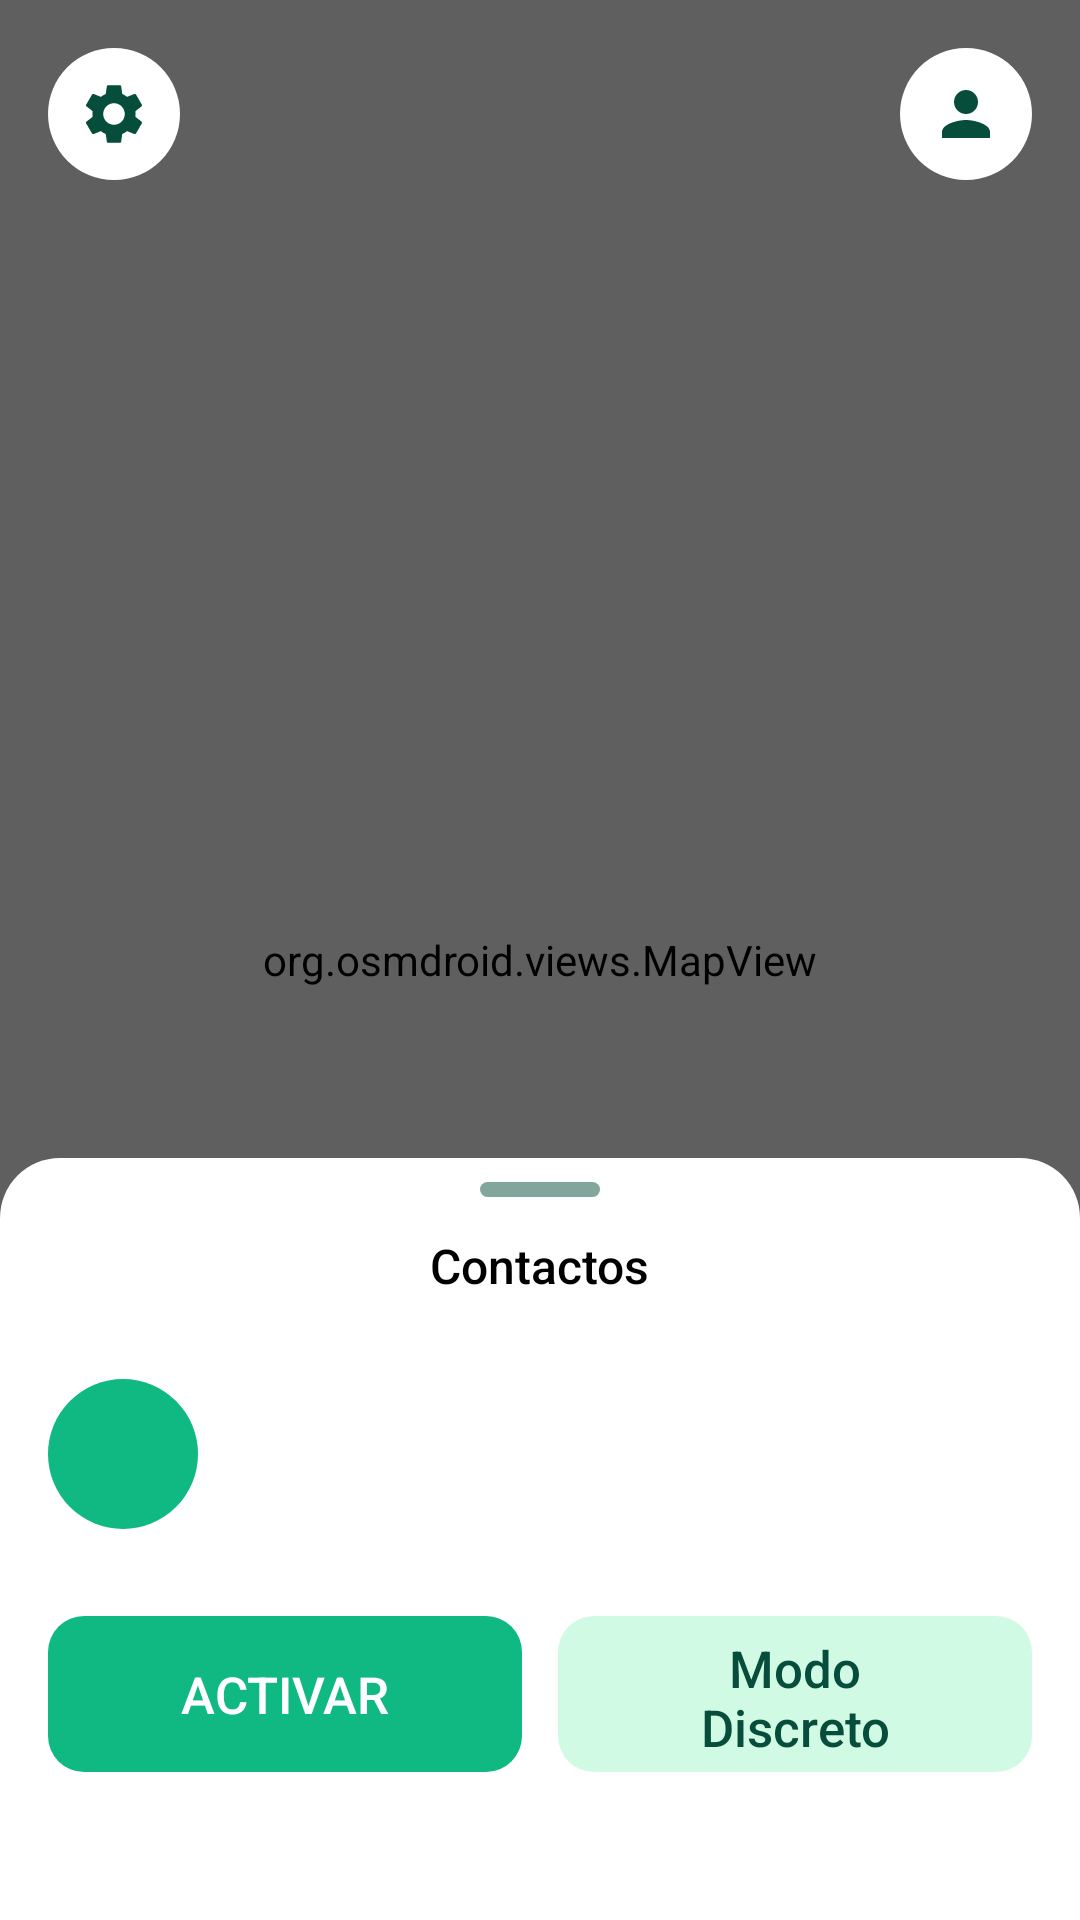

Locate icon controls on the screen. Image size 1080x1920, boxes as (x1=x1, y1=y1, x2=x2, y2=y2).
Configuración: (x1=48, y1=48, x2=180, y2=180)
Perfil: (x1=900, y1=48, x2=1032, y2=180)
